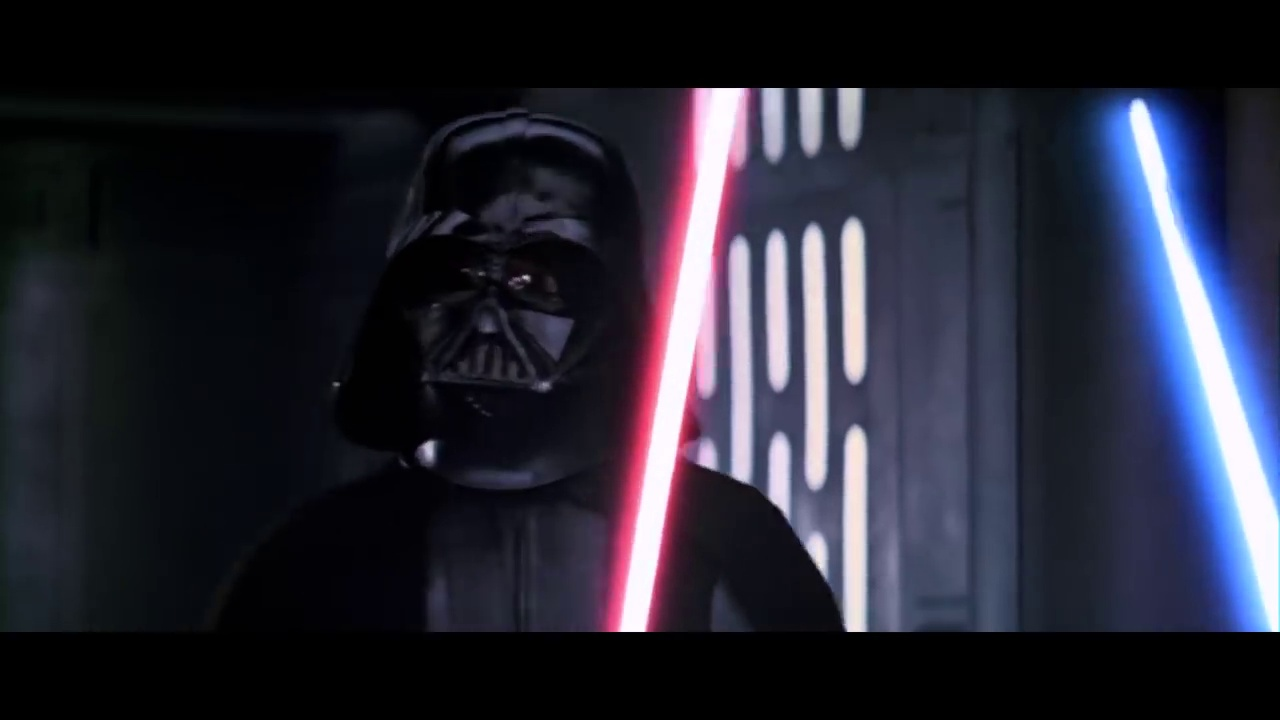lightsaber: (1085, 95, 1279, 635), (582, 88, 766, 629)
